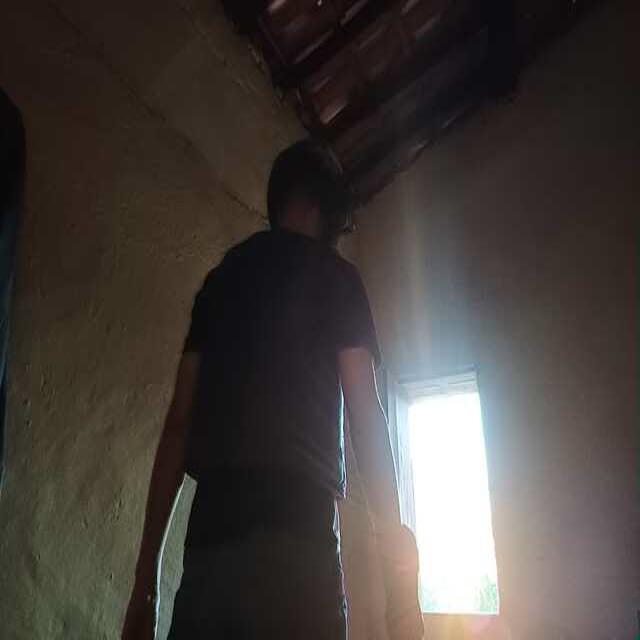capacete: (270, 138, 349, 235)
colete: (190, 236, 350, 508)
pessoa: (148, 157, 398, 640)
